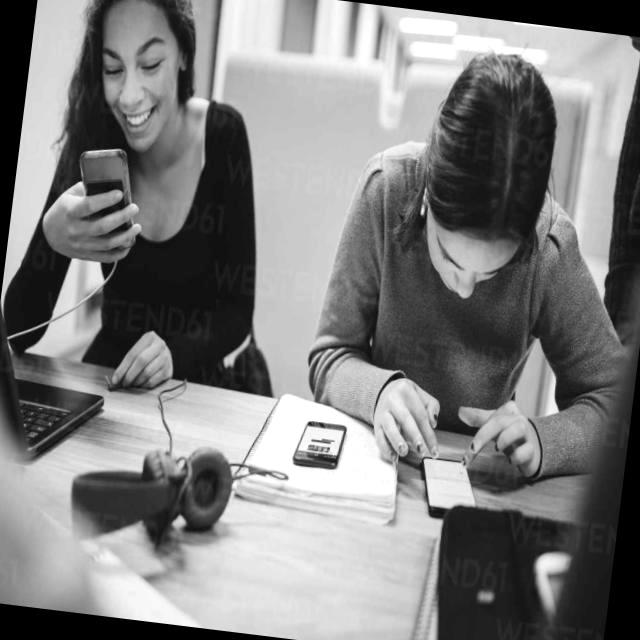phone: (67, 143, 141, 255), (414, 454, 482, 522), (292, 418, 348, 470)
